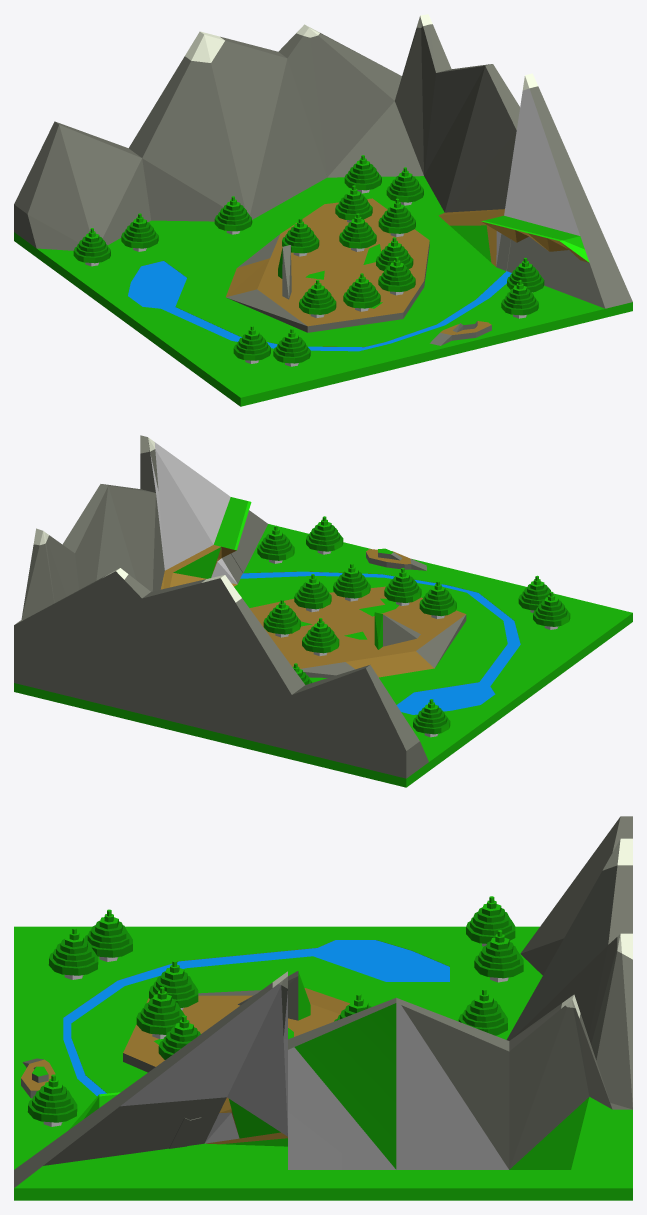
The model's file is world.gltf.
3 views of the same model, one above another, from view 1: azimuth 30°, elevation 25°; view 2: azimuth 150°, elevation 25°; view 3: azimuth 270°, elevation 25° (orthographic). The views are drawn at different scales.
Visible parts, largest first — view 1: root; view 2: root; view 3: root.
Boxes of the visible parts, x1,y1,x2,y2 form: root: [14, 14, 632, 406]; root: [14, 435, 632, 787]; root: [14, 816, 632, 1200].
Bounding box in the file's own units: 11.5 × 4.6 × 11.5.
